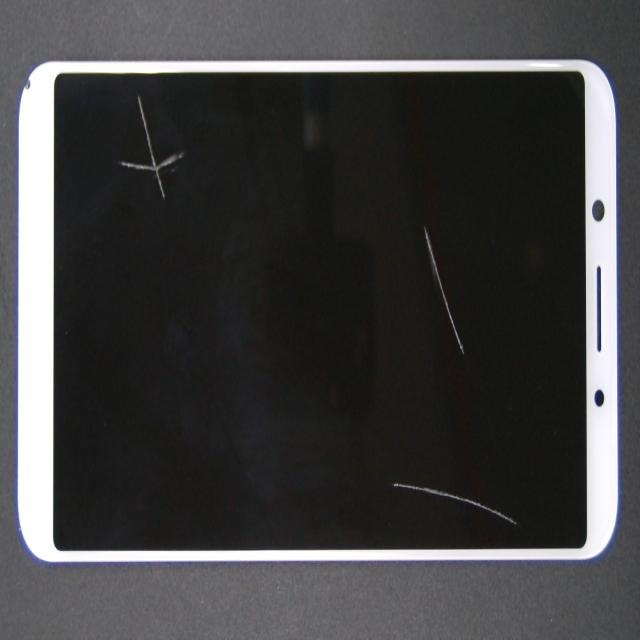scratch: (343, 281, 640, 640), (218, 89, 633, 338), (117, 87, 248, 178)
